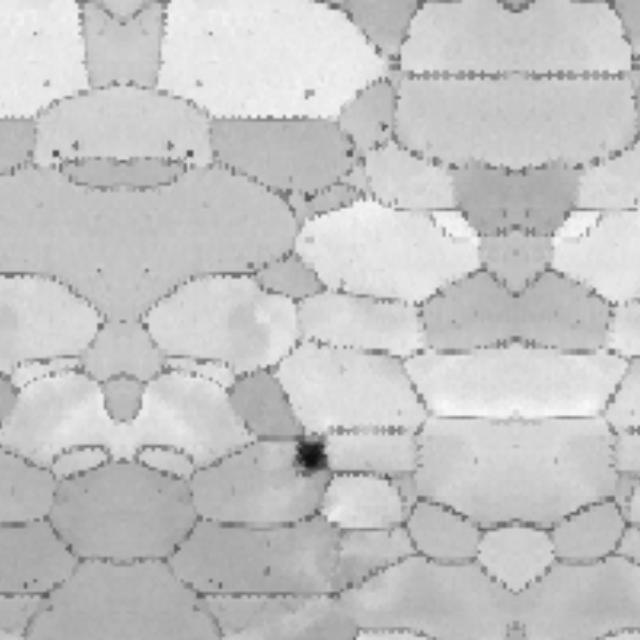good_void: (289, 436, 335, 483), (301, 87, 318, 108), (303, 187, 317, 206), (379, 121, 391, 136), (261, 566, 274, 579), (42, 78, 54, 92), (193, 78, 204, 92), (344, 149, 357, 160), (163, 139, 174, 152), (72, 139, 83, 152), (186, 148, 197, 160), (50, 148, 61, 160), (217, 581, 227, 592), (20, 581, 30, 592)
